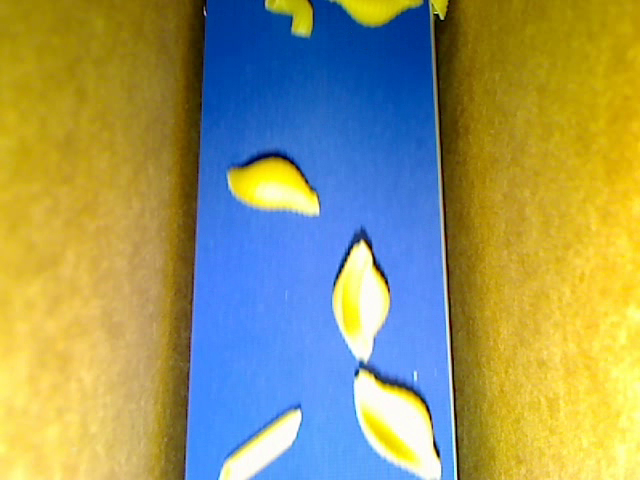elbow: (264, 1, 314, 39)
penne: (217, 406, 302, 479)
shell: (353, 368, 443, 479), (331, 238, 389, 364), (227, 156, 321, 216), (329, 1, 424, 28)
